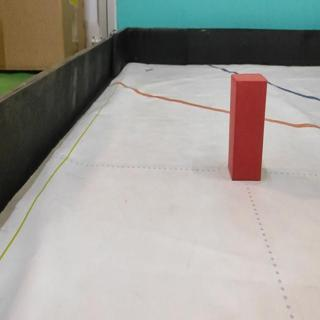redbox: (228, 71, 266, 181)
